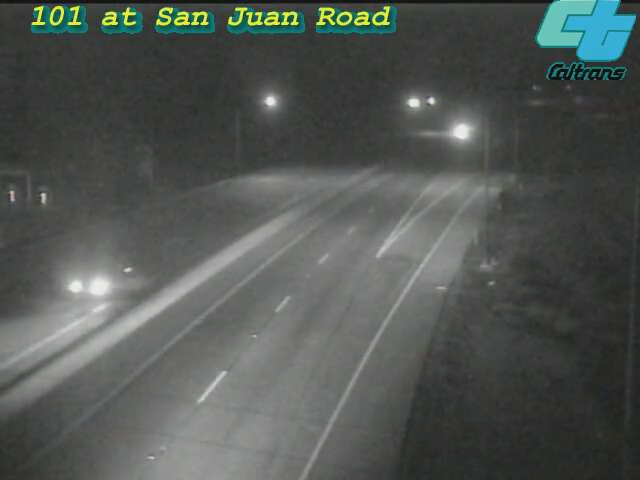vehicle: (44, 245, 124, 325), (439, 105, 489, 155)
